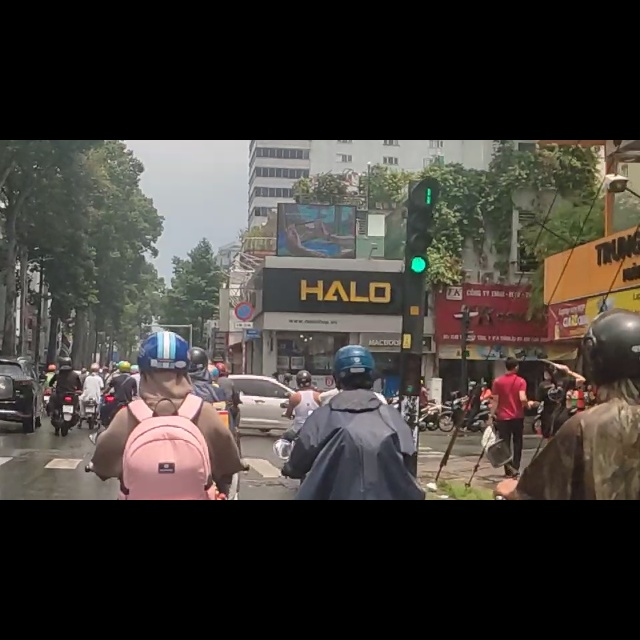bien_cam: (233, 285, 254, 323)
